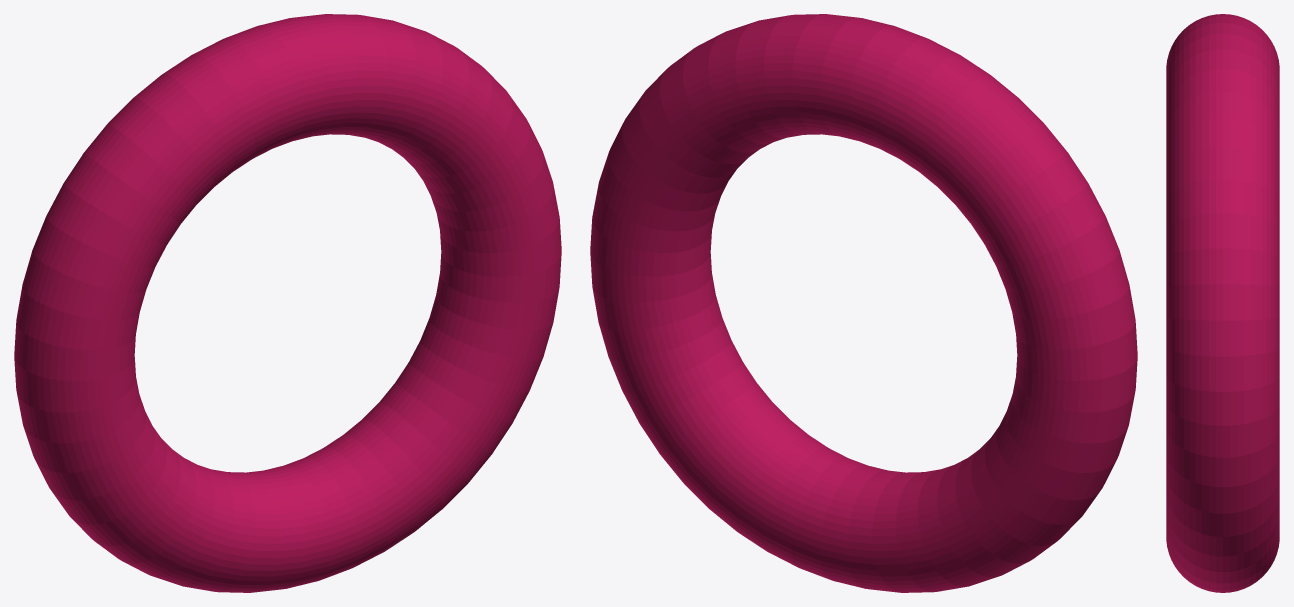
The picture shows the model from 3 angles, left to right: view 1: azimuth 30°, elevation 25°; view 2: azimuth 150°, elevation 25°; view 3: azimuth 270°, elevation 25°; orthographic projection. The views are drawn at different scales.
Parts seen in each view (by area): view 1: world; view 2: world; view 3: world.
Part boxes in pixels (<box>): world: <box>14,14,561,592</box>; world: <box>590,14,1137,592</box>; world: <box>1166,14,1279,592</box>.
Bounding box in the file's own units: 37.33 × 37.26 × 7.32.
